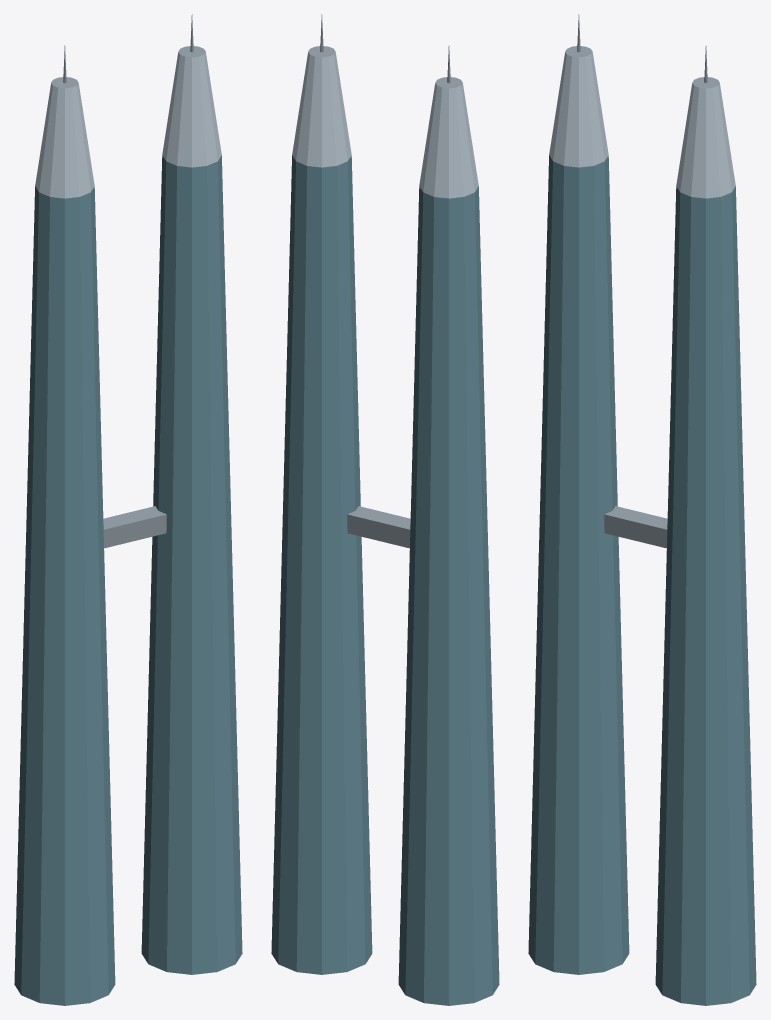
File: source.glb
3 renders of one model, left to right at view 1: azimuth 30°, elevation 25°; view 2: azimuth 150°, elevation 25°; view 3: azimuth 330°, elevation 25°, orthographic.
Parts seen in each view (by area): view 1: worldgen; view 2: worldgen; view 3: worldgen.
Boxes of the visible parts, x1,y1,x2,y2 form: worldgen: [14, 14, 242, 1005]; worldgen: [271, 14, 499, 1005]; worldgen: [528, 14, 756, 1005].
Size of the model in its own units: 108 by 452 by 44.
